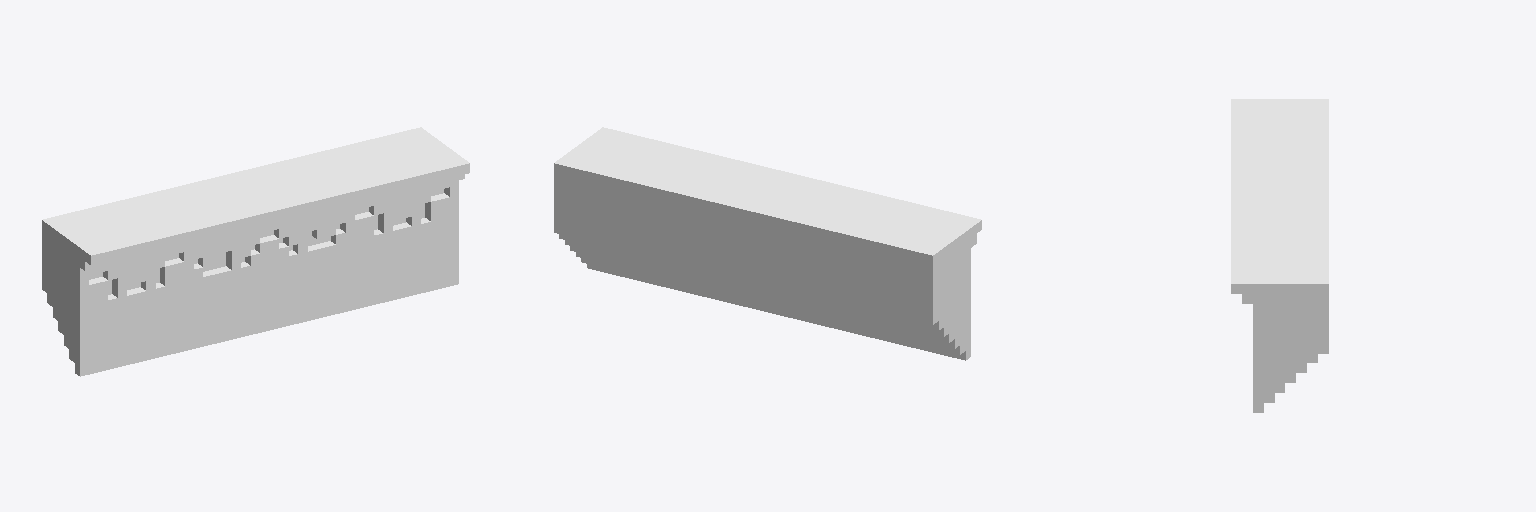
File: Step.obj
3 renders of one model, left to right at view 1: azimuth 30°, elevation 25°; view 2: azimuth 150°, elevation 25°; view 3: azimuth 270°, elevation 25°, orthographic.
Parts seen in each view (by area): view 1: object 1; view 2: object 1; view 3: object 1.
Part boxes in pixels (left/top/right/bottom): object 1: left=42, top=127, right=469, bottom=376; object 1: left=554, top=127, right=981, bottom=360; object 1: left=1231, top=99, right=1328, bottom=412.
Size of the model in its own units: 4 by 1.3 by 0.9.